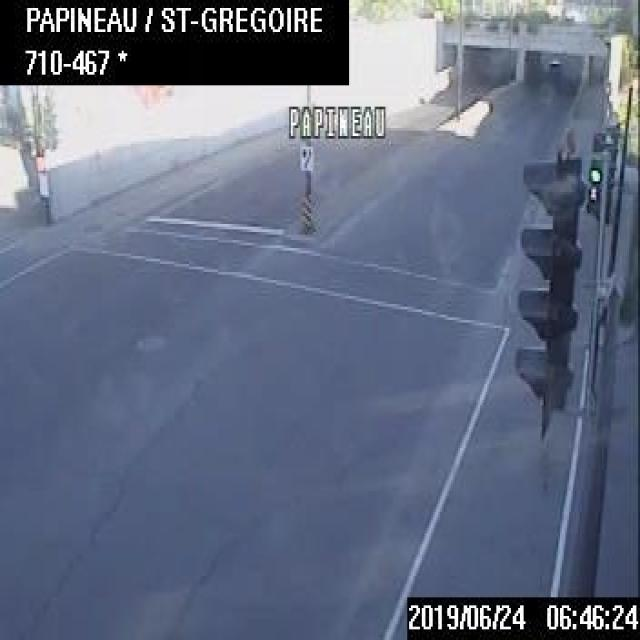vehicle: (548, 55, 562, 71)
